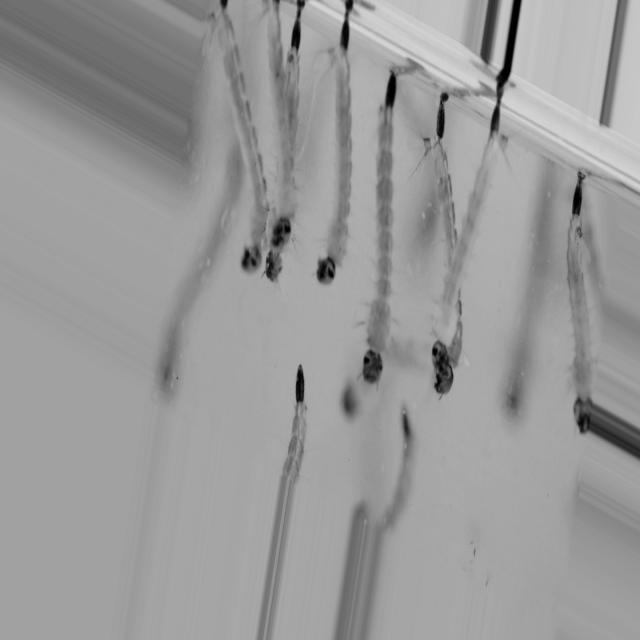larvas: (418, 103, 520, 383), (204, 0, 275, 290), (153, 181, 241, 395), (498, 161, 564, 423), (314, 11, 362, 293), (361, 76, 400, 391), (263, 5, 299, 250), (566, 164, 594, 435), (424, 85, 467, 247), (388, 409, 414, 521), (285, 356, 307, 482), (285, 2, 312, 90)
